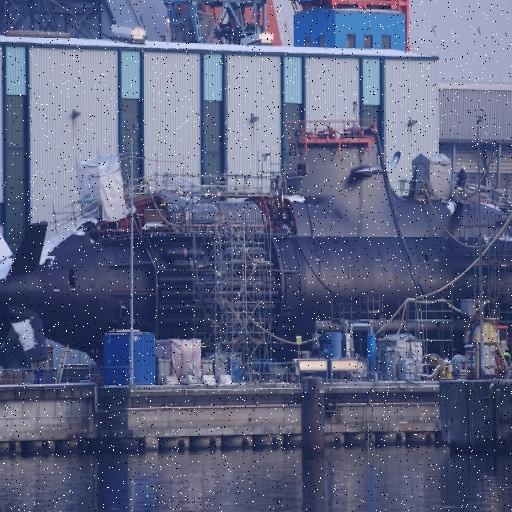submarine: (1, 133, 512, 365)
